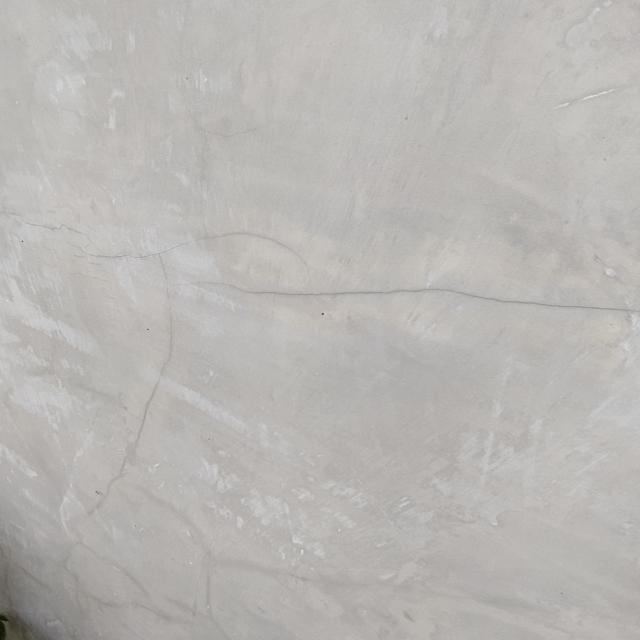Crack: (2, 208, 639, 485)
